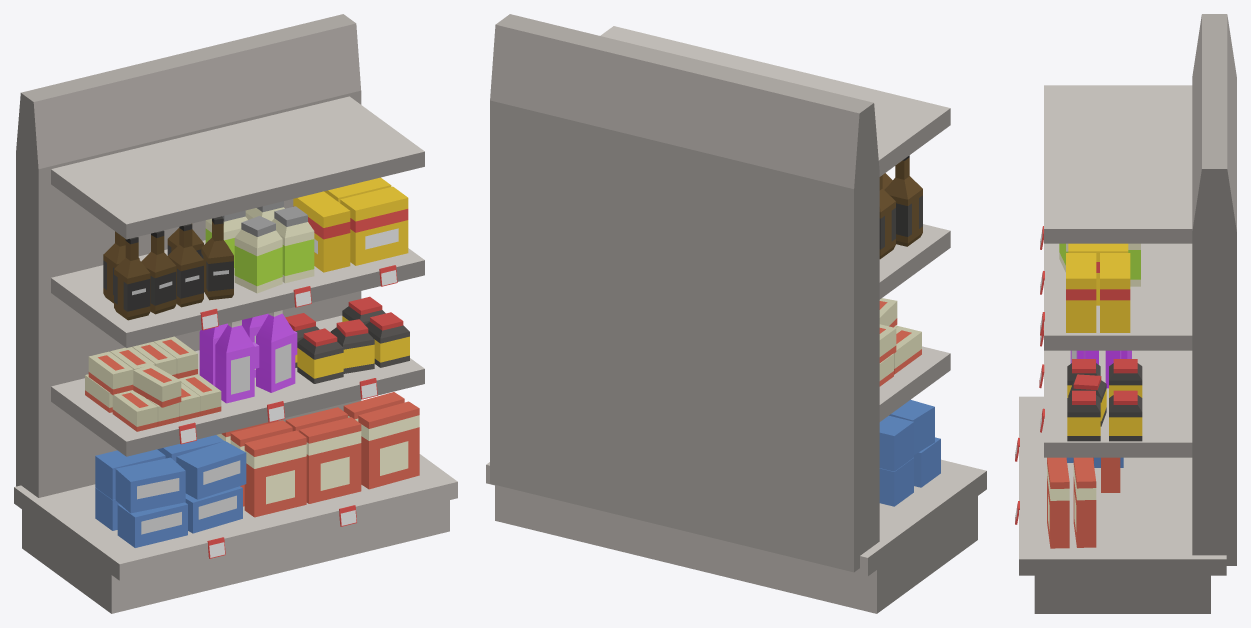
Rendered from ShelfIsleEndPreset.glb.
The picture shows the model from 3 angles, left to right: view 1: azimuth 30°, elevation 25°; view 2: azimuth 150°, elevation 25°; view 3: azimuth 270°, elevation 25°; orthographic projection. The views are drawn at different scales.
Parts seen in each view (by area): view 1: SI_Prop_Shelf_Isle_End_Preset_01; view 2: SI_Prop_Shelf_Isle_End_Preset_01; view 3: SI_Prop_Shelf_Isle_End_Preset_01.
Boxes of the visible parts, bbox=[...] form: SI_Prop_Shelf_Isle_End_Preset_01: bbox=[14, 14, 457, 613]; SI_Prop_Shelf_Isle_End_Preset_01: bbox=[486, 14, 986, 613]; SI_Prop_Shelf_Isle_End_Preset_01: bbox=[1015, 14, 1236, 613].
Bounding box in the file's own units: 0.0338 × 0.0428 × 0.0195.
Materials: 1 (1 with a texture image).
